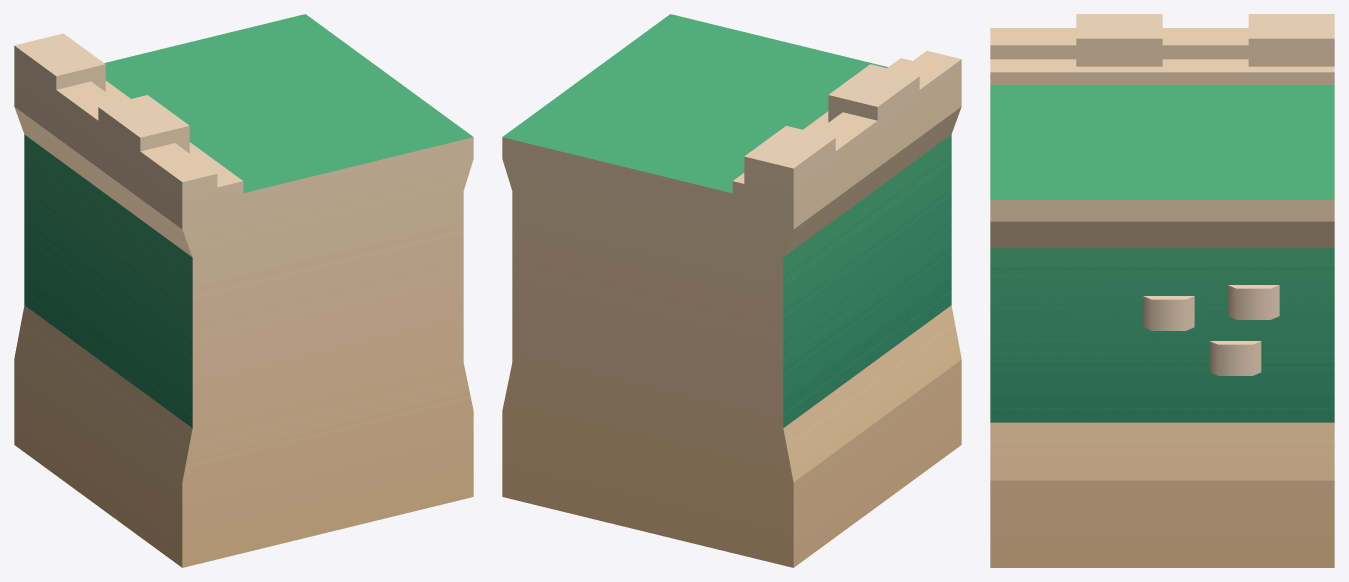
Rendered from wall-half.glb.
The picture shows the model from 3 angles, left to right: view 1: azimuth 30°, elevation 25°; view 2: azimuth 150°, elevation 25°; view 3: azimuth 270°, elevation 25°; orthographic projection. The views are drawn at different scales.
Parts seen in each view (by area): view 1: wall-half; view 2: wall-half; view 3: wall-half.
Part boxes in pixels (box(x1,y1,x2,y2)): wall-half: box(14, 14, 473, 567); wall-half: box(502, 14, 961, 567); wall-half: box(990, 14, 1334, 567).
Size of the model in its own units: 1 by 1.31 by 1.
